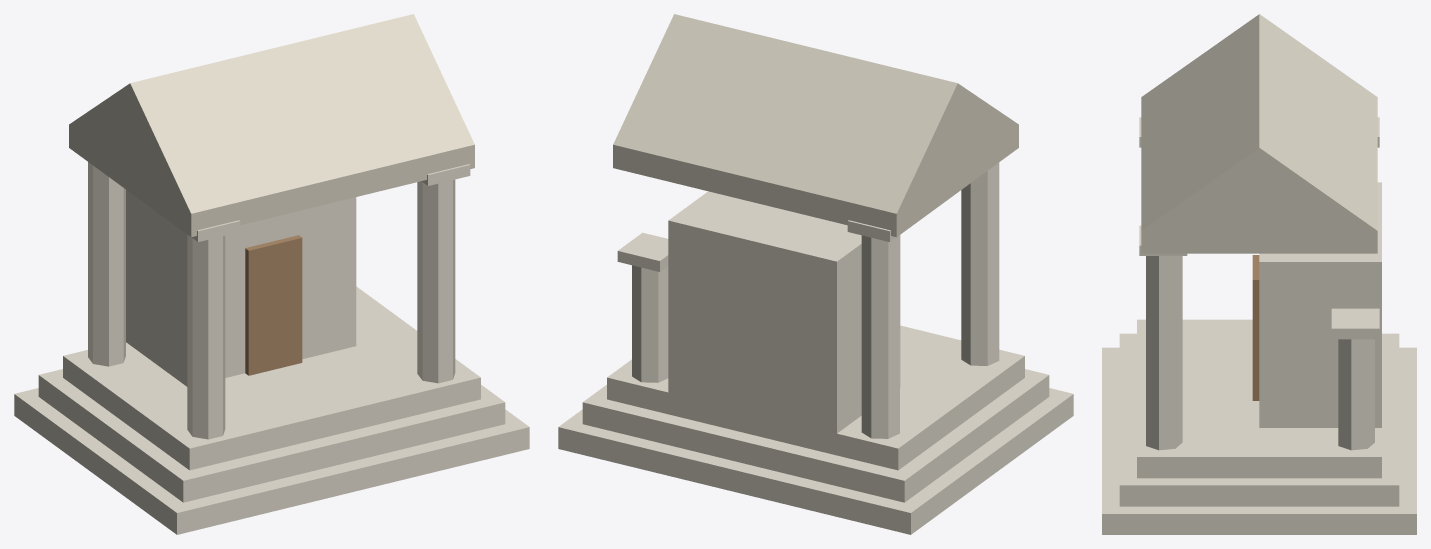
File: ancient_shrine.glb
3 renders of one model, left to right at view 1: azimuth 30°, elevation 25°; view 2: azimuth 150°, elevation 25°; view 3: azimuth 270°, elevation 25°, orthographic. The views are drawn at different scales.
Visible parts, largest first — view 1: Pediment, Step_2, Cella, Step_0, Step_1, Entablature, Column_0, Column_1, ShrineDoor, Column_2; view 2: Pediment, Cella, Step_2, Step_0, Step_1, Entablature, Column_2, Column_0, Column_3, ColCap_3; view 3: Pediment, Step_2, Cella, Step_0, Step_1, Column_1, Entablature, Column_3, ColCap_3, ShrineDoor.
Boxes of the visible parts, x1,y1,x2,y2 form: Pediment: [69, 14, 474, 213]; Step_2: [63, 286, 480, 470]; Cella: [126, 190, 356, 386]; Step_0: [14, 388, 529, 534]; Step_1: [38, 369, 505, 502]; Entablature: [69, 124, 474, 237]; Column_0: [187, 234, 225, 439]; Column_1: [417, 179, 455, 383]; ShrineDoor: [245, 235, 302, 375]; Column_2: [88, 162, 125, 366]; Pediment: [613, 14, 1018, 213]; Cella: [668, 191, 900, 433]; Step_2: [607, 325, 1024, 470]; Step_0: [558, 388, 1073, 534]; Step_1: [582, 369, 1049, 502]; Entablature: [613, 124, 1018, 237]; Column_2: [861, 235, 899, 438]; Column_0: [961, 162, 999, 365]; Column_3: [632, 265, 668, 382]; ColCap_3: [617, 232, 668, 271]; Pediment: [1141, 14, 1377, 230]; Step_2: [1137, 319, 1381, 478]; Cella: [1259, 182, 1381, 427]; Step_0: [1102, 347, 1416, 534]; Step_1: [1119, 333, 1399, 506]; Column_1: [1146, 256, 1182, 450]; Entablature: [1141, 231, 1377, 253]; Column_3: [1338, 339, 1374, 450]; ColCap_3: [1331, 308, 1379, 339]; ShrineDoor: [1252, 255, 1259, 400].
Size of the model in its own units: 5 by 5.2 by 4.
